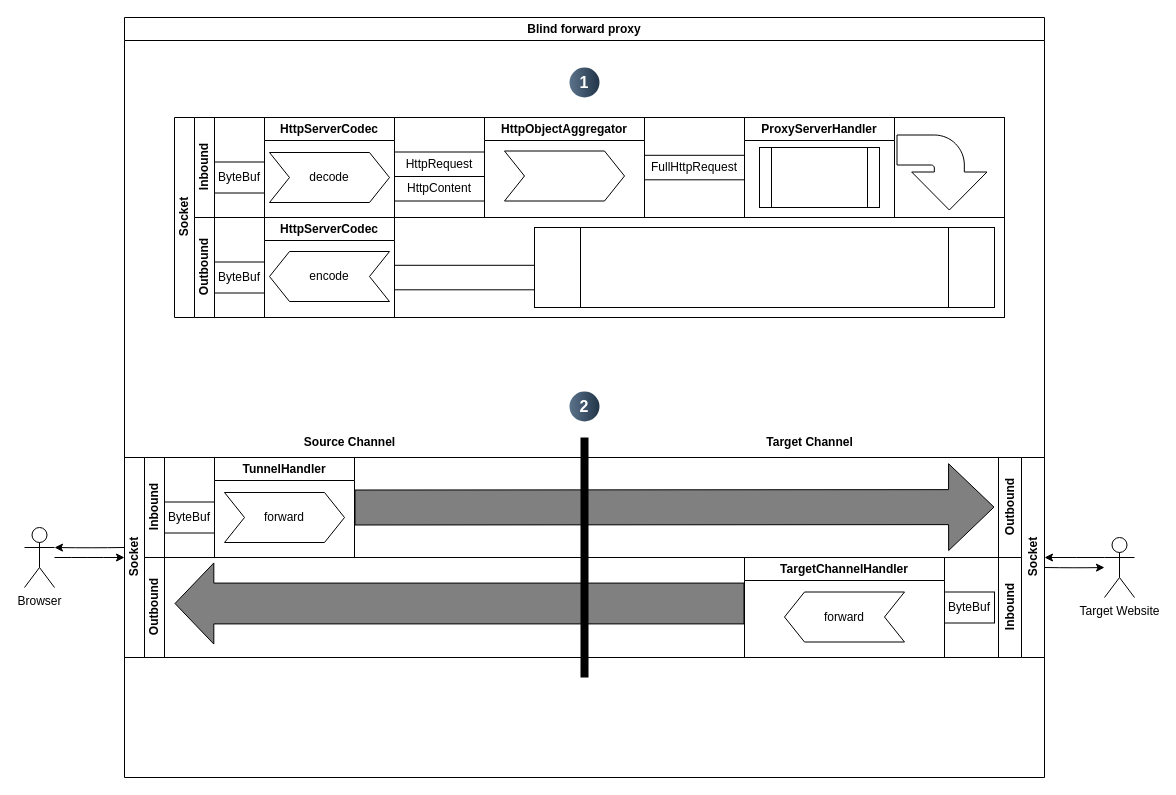
Image size: 1176x795. Some labels were removed from this diagram. Each missing label, with the centre of its shape:
"aggregate" belongs at [564,175].
"CONNECT" belongs at [819,177].
"HttpResponse" belongs at [464,277].
"OK, BAD_REQUEST, BAD_GATEWAY" belongs at [764,267].
